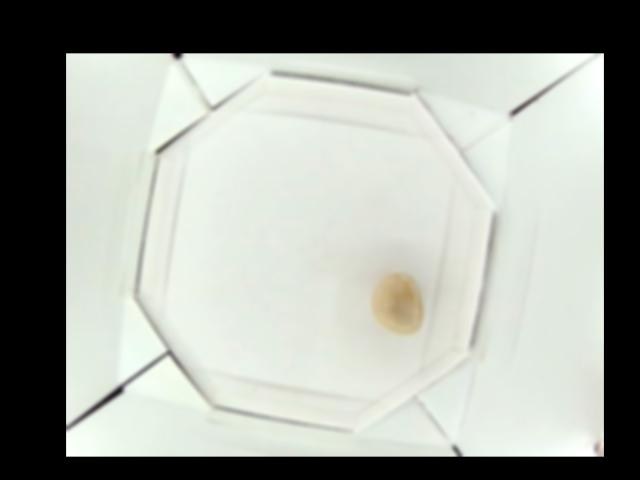Pebble: (372, 272, 423, 338)
